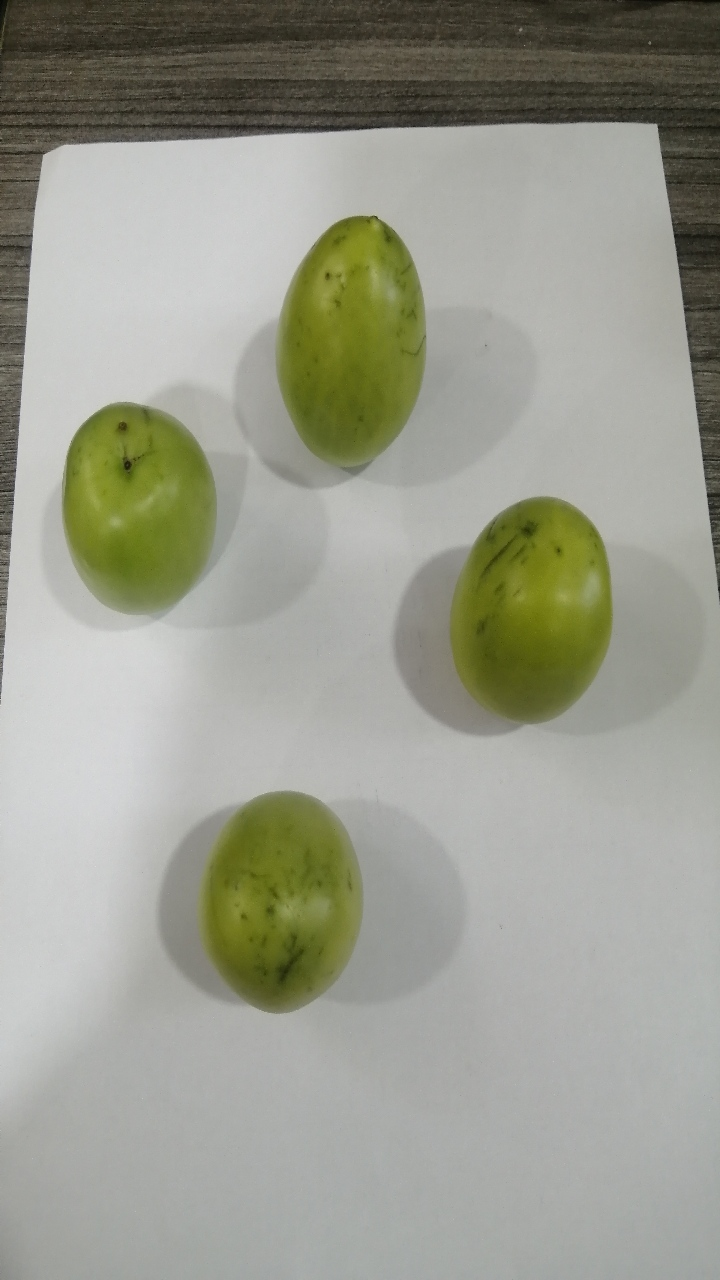tomateVerde: (271, 186, 451, 509), (41, 385, 257, 639), (184, 772, 378, 1029), (437, 485, 632, 728)
